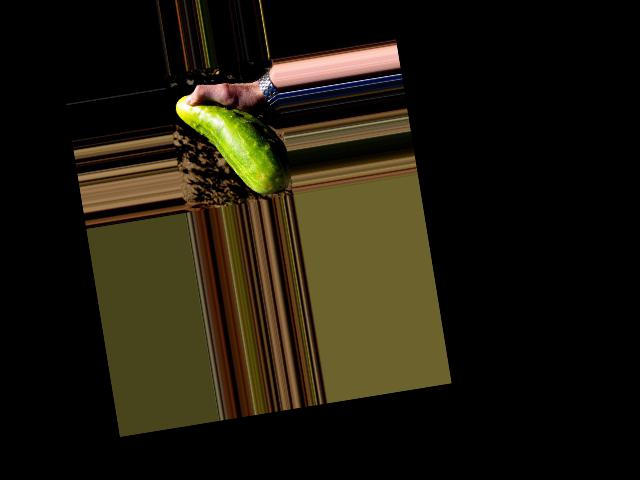cucumber: (174, 80, 294, 207)
